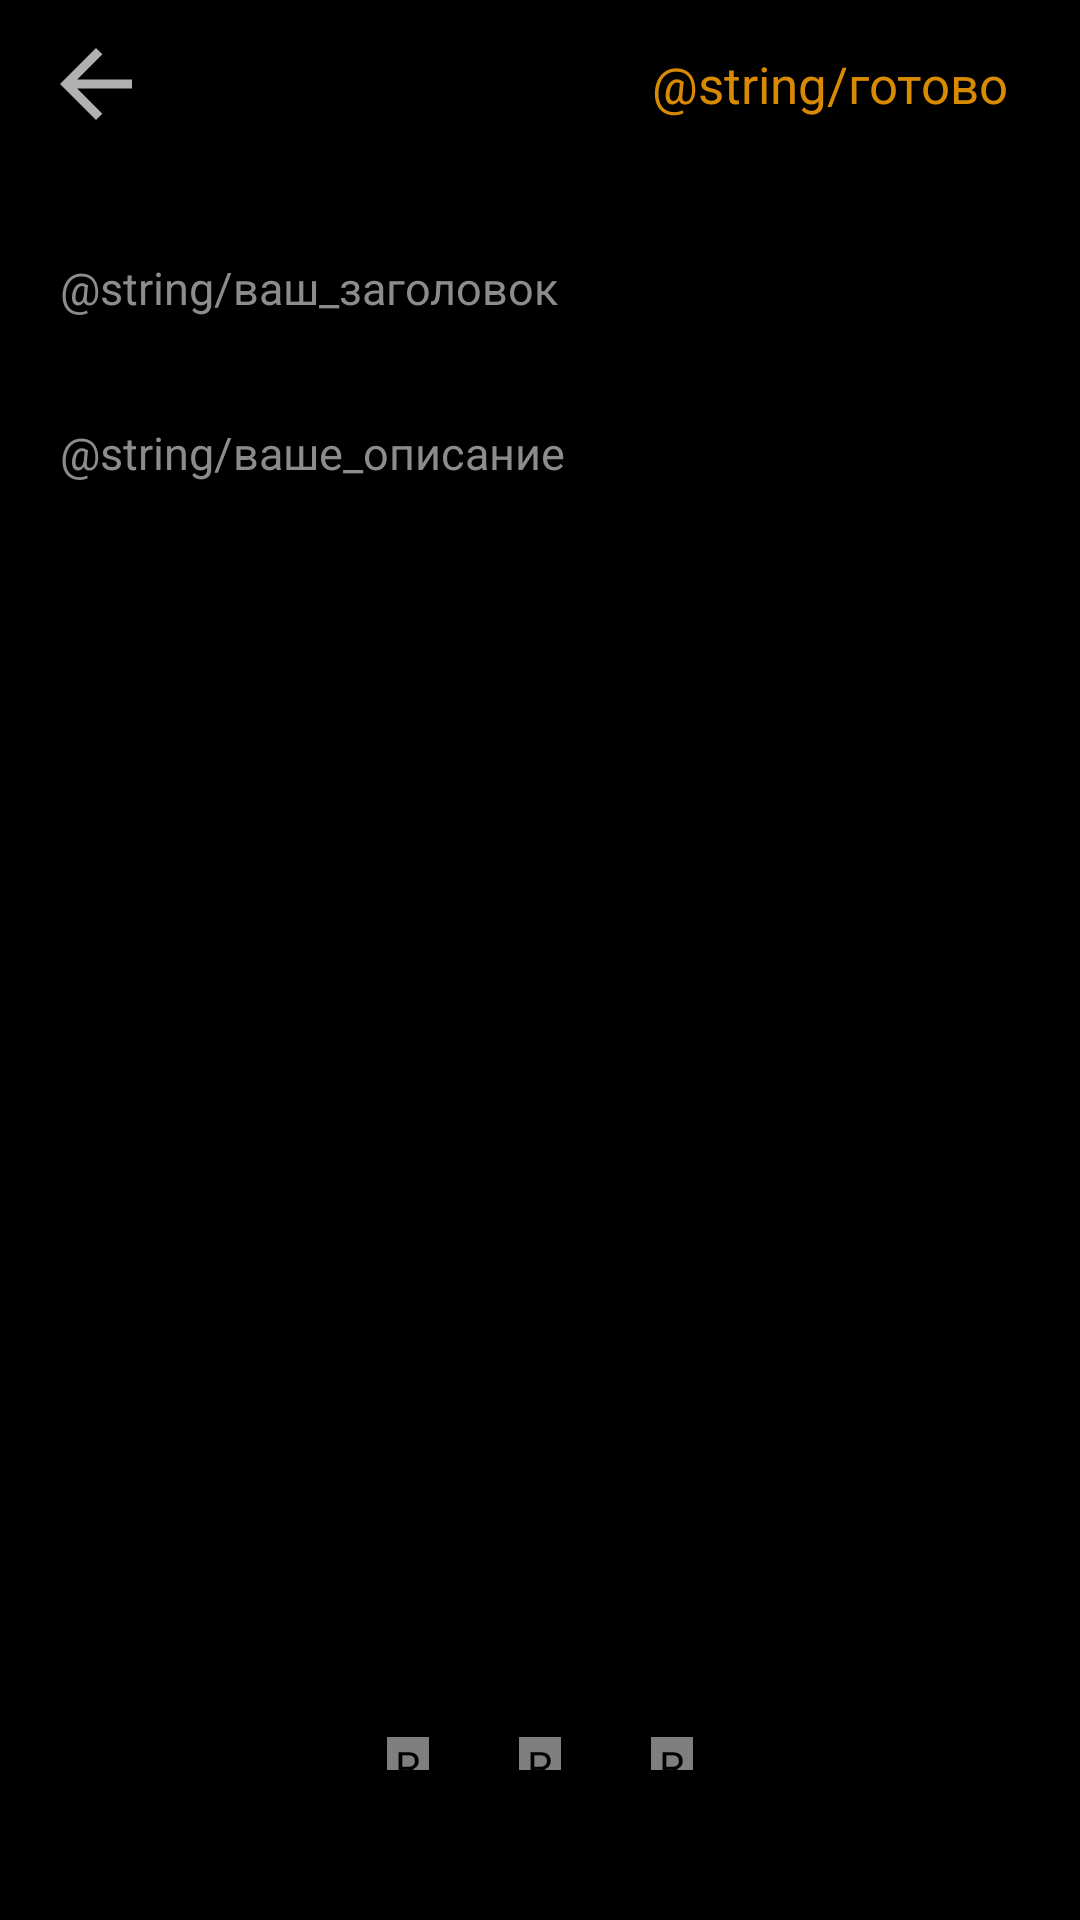

Icons on this 1080w x 1920h Android screen, each with its box as box=[x1, y1, x2, y2]:
arrow back: box=[60, 48, 132, 120]
